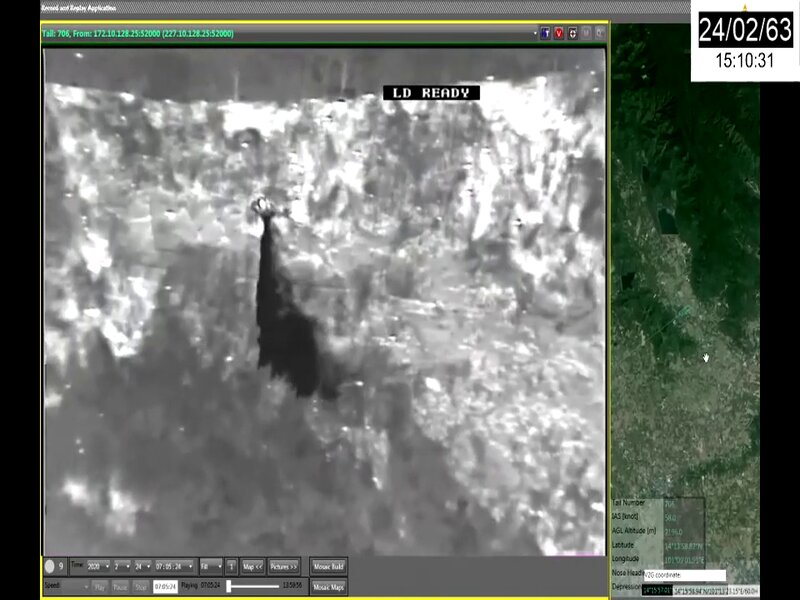Fire: (481, 74, 603, 306)
